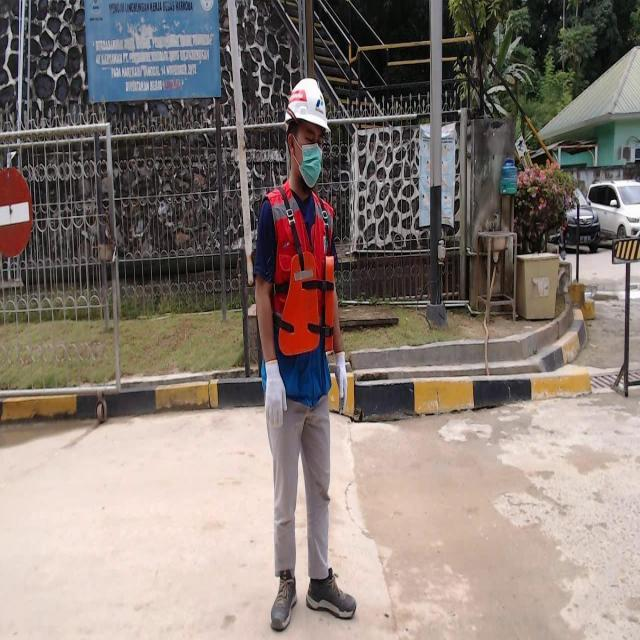vest: (278, 250, 334, 354)
